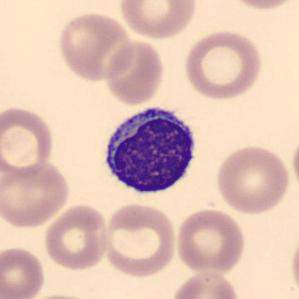Lymphocyte: (97, 101, 203, 200)
RBC: (181, 28, 265, 101), (101, 201, 179, 278), (214, 141, 292, 216), (56, 10, 134, 82), (0, 158, 72, 230), (173, 207, 248, 276), (42, 202, 111, 271), (103, 37, 166, 106), (0, 104, 57, 179), (117, 0, 199, 40), (0, 244, 47, 299), (168, 269, 242, 299), (221, 0, 299, 12), (288, 230, 299, 296), (289, 130, 299, 194)
